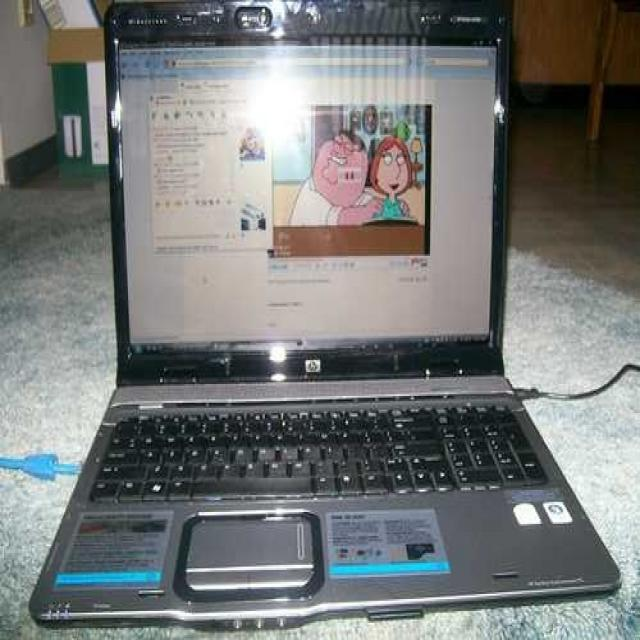laptop: (39, 30, 632, 631)
